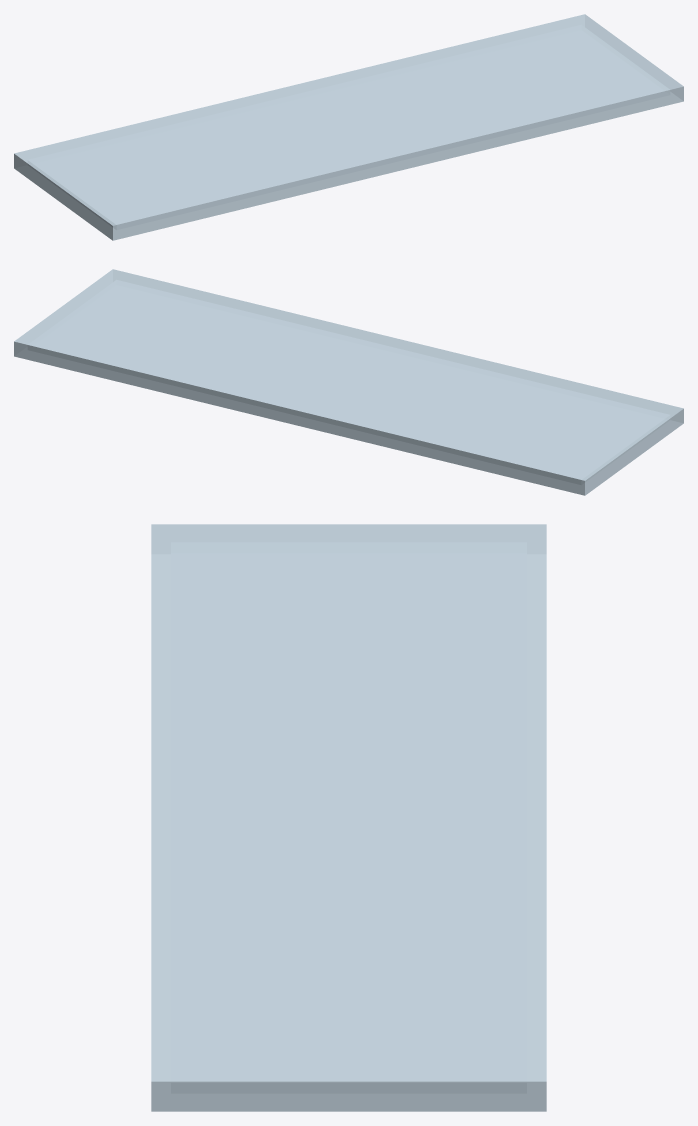
The picture shows the model from 3 angles, top to bottom: view 1: azimuth 30°, elevation 25°; view 2: azimuth 150°, elevation 25°; view 3: azimuth 270°, elevation 25°; orthographic projection. The views are drawn at different scales.
Parts seen in each view (by area): view 1: window_single_1u_run001; view 2: window_single_1u_run001; view 3: window_single_1u_run001.
Part boxes in pixels (x1,y1,x2,y2): window_single_1u_run001: (14, 14, 683, 240); window_single_1u_run001: (14, 269, 683, 495); window_single_1u_run001: (151, 524, 546, 1111).
Bounding box in the file's own units: 4 × 0.1 × 1.2.
